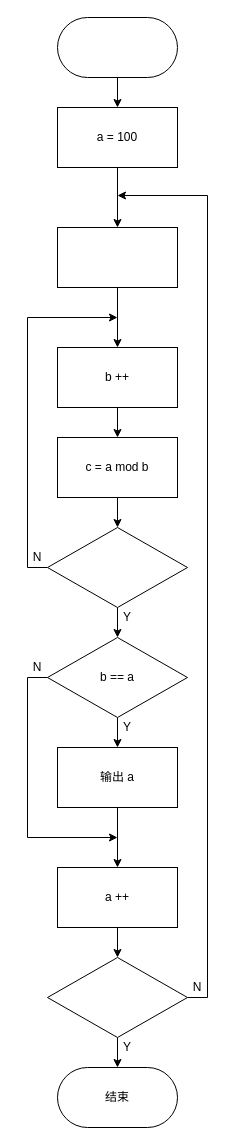
Some shapes in this 234 by 1145 pixel diagram are drawn without their labels. Each missing label, with the box of its shape:
a > 200: (46, 956, 188, 1038)
b = 1: (56, 226, 178, 288)
c == 0: (46, 526, 188, 608)
开始: (56, 16, 178, 78)
